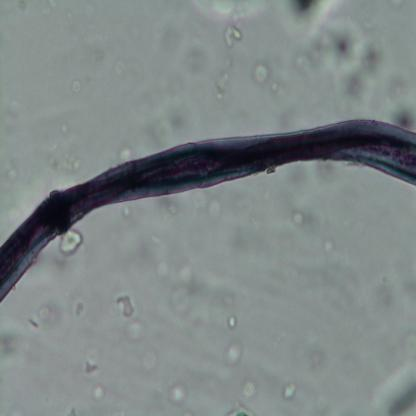Background material: (124, 29, 205, 143), (320, 26, 385, 104), (214, 2, 247, 104), (228, 191, 269, 254), (368, 374, 416, 415), (0, 148, 32, 204), (168, 263, 199, 317), (51, 133, 83, 180), (285, 1, 333, 32), (301, 331, 330, 378), (0, 307, 23, 362), (150, 189, 184, 225), (387, 99, 416, 132), (287, 40, 310, 76), (59, 230, 84, 262), (115, 292, 136, 321), (28, 303, 50, 329), (223, 341, 244, 367), (200, 198, 227, 218), (126, 323, 148, 347), (169, 382, 189, 408), (219, 403, 257, 416), (241, 377, 258, 401), (90, 381, 107, 405), (143, 349, 158, 376), (80, 356, 100, 376), (153, 258, 168, 283), (281, 380, 298, 402), (254, 64, 270, 86), (70, 75, 84, 96), (322, 236, 334, 257), (225, 314, 239, 332), (116, 146, 132, 161), (290, 210, 305, 226), (121, 204, 134, 222), (74, 300, 85, 320)
Cotton: (0, 120, 416, 305)
